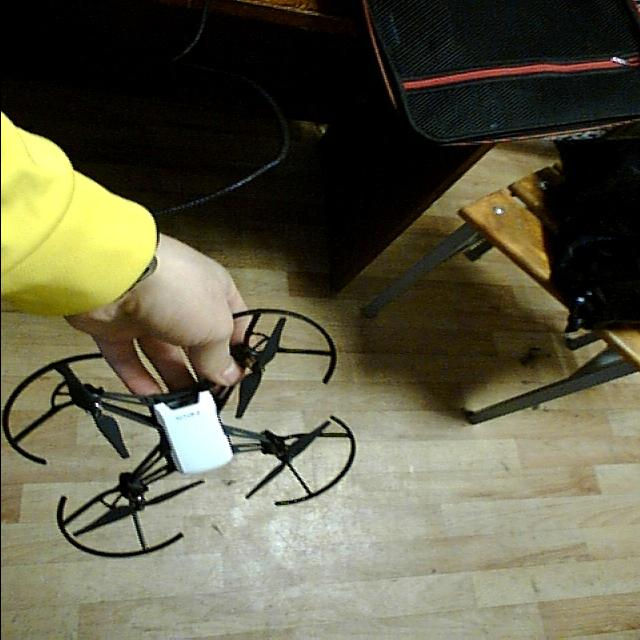drone: (0, 307, 360, 567)
